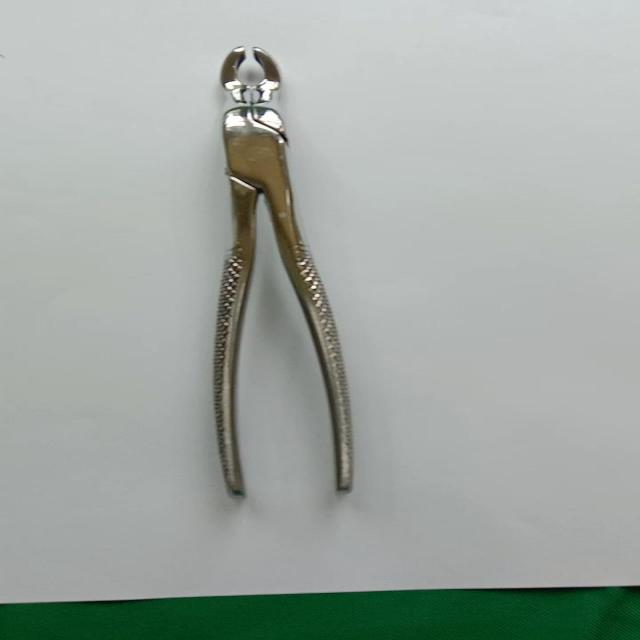BayonetForcep: (178, 45, 364, 500)
